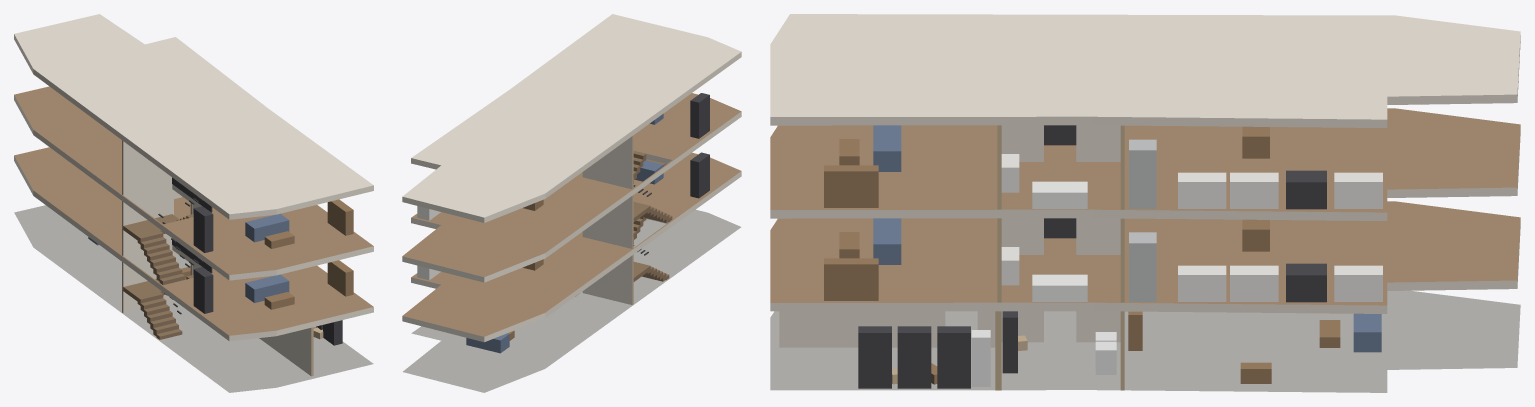
The model's file is interior.glb.
The picture shows the model from 3 angles, left to right: view 1: azimuth 30°, elevation 25°; view 2: azimuth 150°, elevation 25°; view 3: azimuth 270°, elevation 25°; orthographic projection. The views are drawn at different scales.
Visible parts, largest first — view 1: slabs, partitions, stair, coarse-s1, coarse-s2, coarse-s0; view 2: slabs, partitions, coarse-s1, stair, coarse-s2, coarse-s0; view 3: slabs, coarse-s1, coarse-s2, partitions, coarse-s0, stair.
Boxes of the visible parts, x1,y1,x2,y2 form: slabs: (14,14,373,392); partitions: (122,140,313,376); stair: (123,177,212,339); coarse-s1: (193,260,353,313); coarse-s2: (193,199,353,252); coarse-s0: (88,237,342,345); slabs: (402,14,741,392); partitions: (582,135,648,304); coarse-s1: (417,152,709,280); stair: (633,150,672,281); coarse-s2: (417,93,709,220); coarse-s0: (466,293,579,353); slabs: (770,14,1520,392); coarse-s1: (824,218,1382,302); coarse-s2: (824,125,1382,209); partitions: (779,125,1124,390); coarse-s0: (858,311,1381,388); stair: (1044,125,1076,238).
Size of the model in its own units: 6.95 by 8.4 by 20.85.
